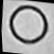no answer: (7, 3, 53, 48)
